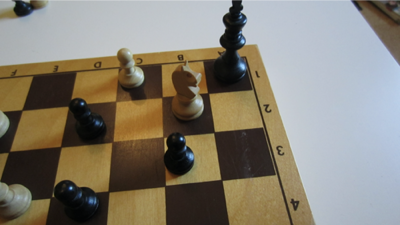black-king: (214, 1, 249, 83)
black-pawn: (53, 180, 101, 223), (68, 97, 107, 140), (164, 132, 196, 175)
white-knight: (171, 60, 205, 122)
white-pawn: (116, 48, 146, 90)
